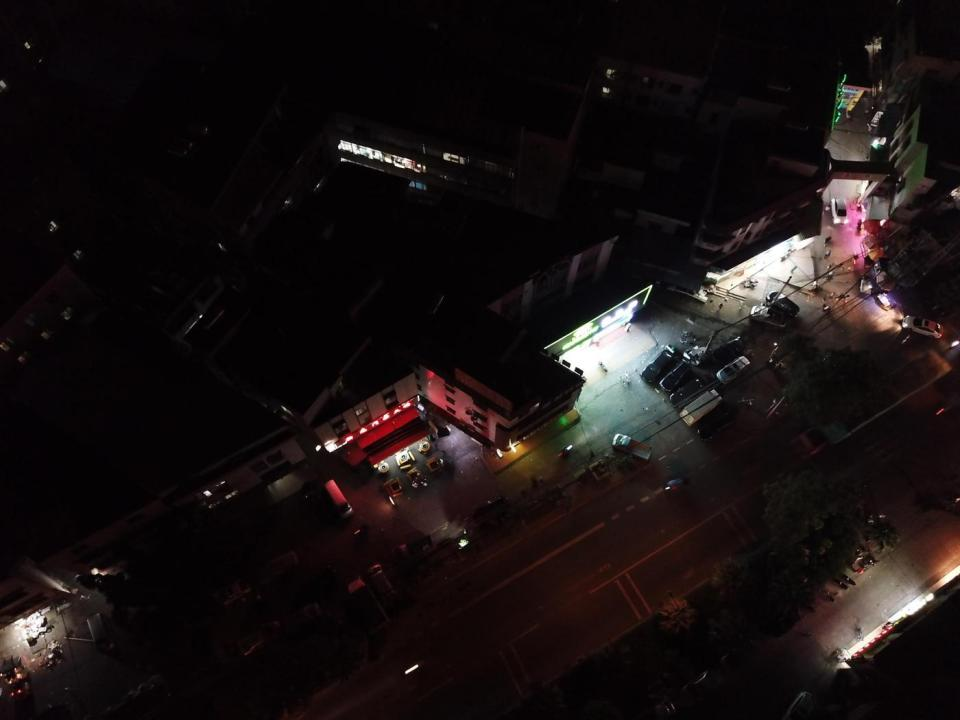car: (677, 668, 723, 708), (236, 619, 283, 658), (256, 551, 300, 587), (669, 375, 711, 409), (639, 348, 676, 384), (471, 494, 511, 524), (214, 578, 252, 606), (716, 354, 751, 384), (765, 290, 800, 320), (366, 562, 394, 599), (901, 315, 944, 339), (785, 690, 818, 720), (712, 336, 746, 365), (659, 361, 691, 391), (830, 196, 848, 226), (561, 444, 572, 456)
truck: (679, 389, 723, 426), (611, 433, 653, 462), (748, 305, 787, 329)
van: (347, 574, 391, 636), (322, 478, 354, 520), (86, 612, 116, 652)
